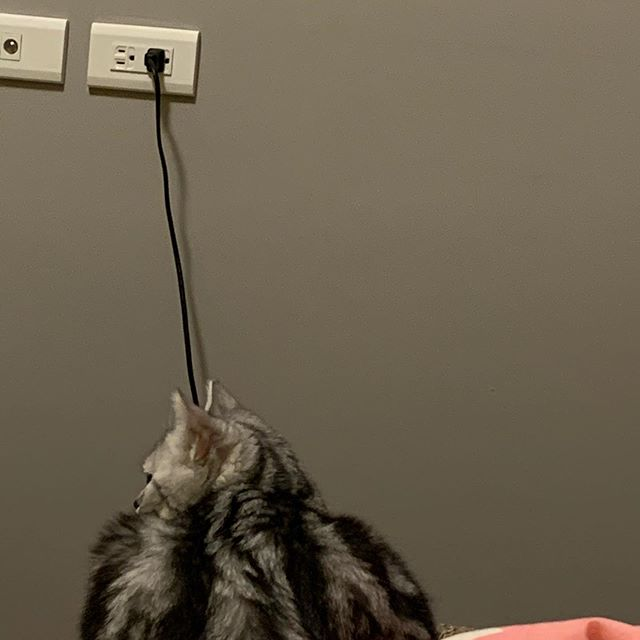cat: (132, 377, 310, 553)
